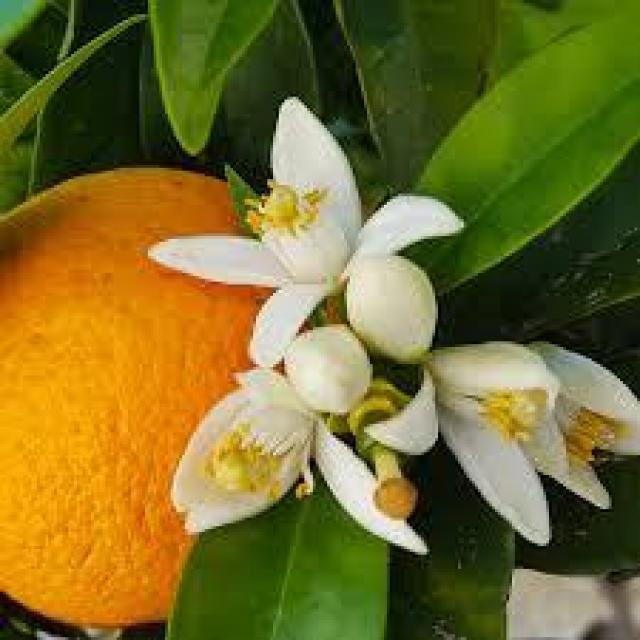Bunga: (148, 96, 466, 364), (176, 366, 432, 564), (432, 332, 558, 540), (532, 338, 640, 506), (347, 256, 441, 367), (284, 324, 372, 412)
Jeruk Sudah Matang: (0, 165, 265, 623)
